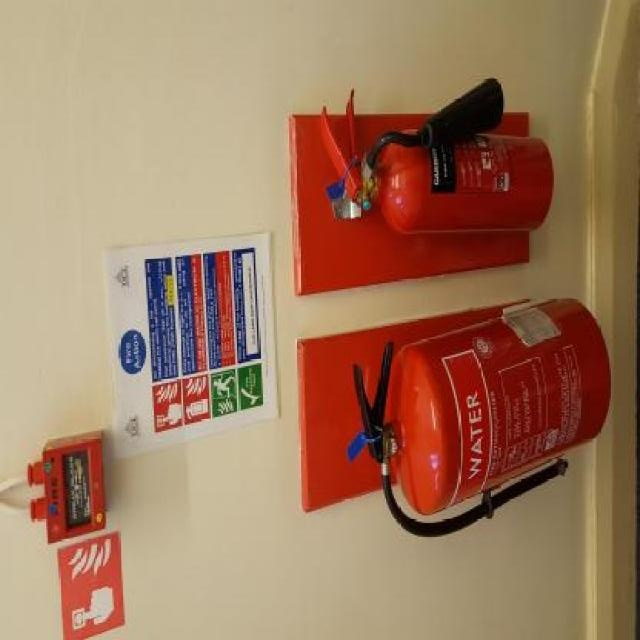fire extinguisher: (353, 298, 612, 540), (316, 75, 553, 234)
